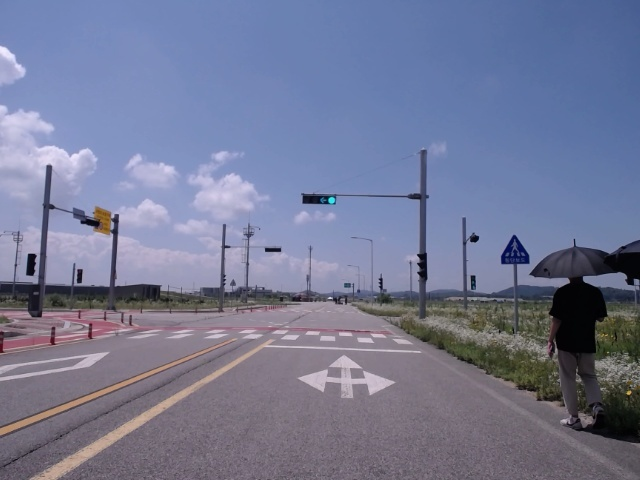all_green_4: (303, 194, 336, 204)
